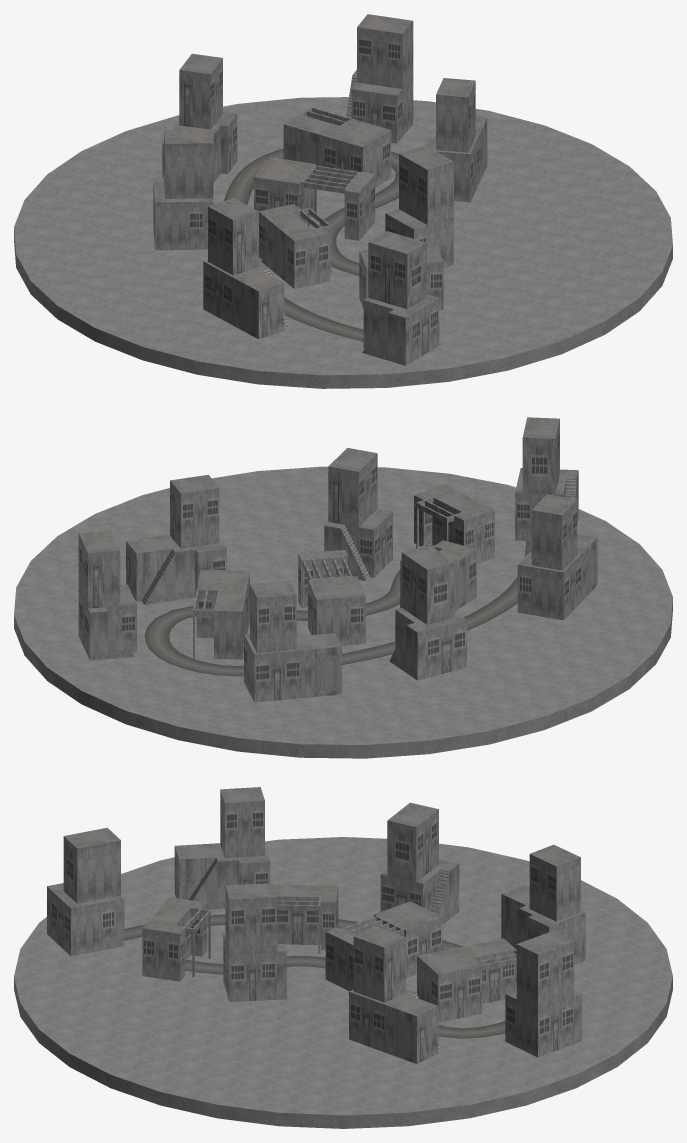
The model's file is dankomapa.glb.
3 views of the same model, one above another, from view 1: azimuth 30°, elevation 25°; view 2: azimuth 150°, elevation 25°; view 3: azimuth 270°, elevation 25° (orthographic).
Parts seen in each view (by area): view 1: ground, Building_4.001, Building_6.002, Building_2, Building_4, Building_1, Building_3, Building_2.001, Building_5, Building_6.001, Building_6, Road (+1 smaller); view 2: ground, Building_6, Building_6.001, Building_4, Building_6.002, Building_2.001, Building_2, Building_3, Road, Building_4.001, Building_5.001, Building_1 (+1 smaller); view 3: ground, Building_6.001, Building_4.001, Building_2, Building_6.002, Building_2.001, Building_4, Building_6, Building_1, Building_3, Building_5.001, Building_5 (+1 smaller).
Part boxes in pixels (box(x1,y1,x2,y2)): ground: box(14, 97, 672, 388); Building_4.001: box(362, 231, 439, 365); Building_6.002: box(203, 198, 289, 339); Building_2: box(346, 14, 413, 143); Building_4: box(153, 129, 213, 250); Building_1: box(283, 107, 391, 187); Building_3: box(254, 157, 375, 240); Building_2.001: box(385, 145, 453, 267); Building_5: box(259, 204, 331, 288); Building_6.001: box(424, 78, 487, 202); Building_6: box(162, 53, 237, 182); Road: box(224, 149, 398, 341); ground: box(14, 466, 672, 758); Building_6: box(244, 580, 341, 702); Building_6.001: box(126, 474, 226, 604); Building_4: box(389, 545, 466, 680); Building_6.002: box(517, 494, 597, 620); Building_2.001: box(324, 448, 392, 580); Building_2: box(78, 530, 136, 660); Building_3: box(298, 549, 365, 645); Road: box(145, 541, 531, 676); Building_4.001: box(515, 417, 578, 540); Building_5.001: box(414, 484, 494, 563); Building_1: box(193, 569, 249, 659); ground: box(14, 837, 672, 1128); Building_6.001: box(349, 926, 440, 1063); Building_4.001: box(47, 827, 124, 956); Building_2: box(505, 931, 581, 1057); Building_6.002: box(174, 787, 270, 909); Building_2.001: box(223, 883, 286, 1001); Building_4: box(380, 802, 459, 924); Building_6: box(501, 844, 585, 964); Building_1: box(417, 938, 516, 1022); Building_3: box(325, 901, 442, 991); Building_5.001: box(142, 897, 210, 981); Building_5: box(273, 884, 338, 953).
Bounding box in the file's own units: 115 × 22.52 × 115.
Materials: 3 (3 with a texture image).
